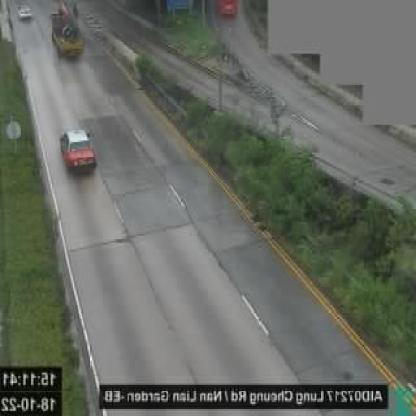Car: (60, 126, 98, 175), (16, 3, 32, 22)
Truck: (48, 3, 86, 62)
